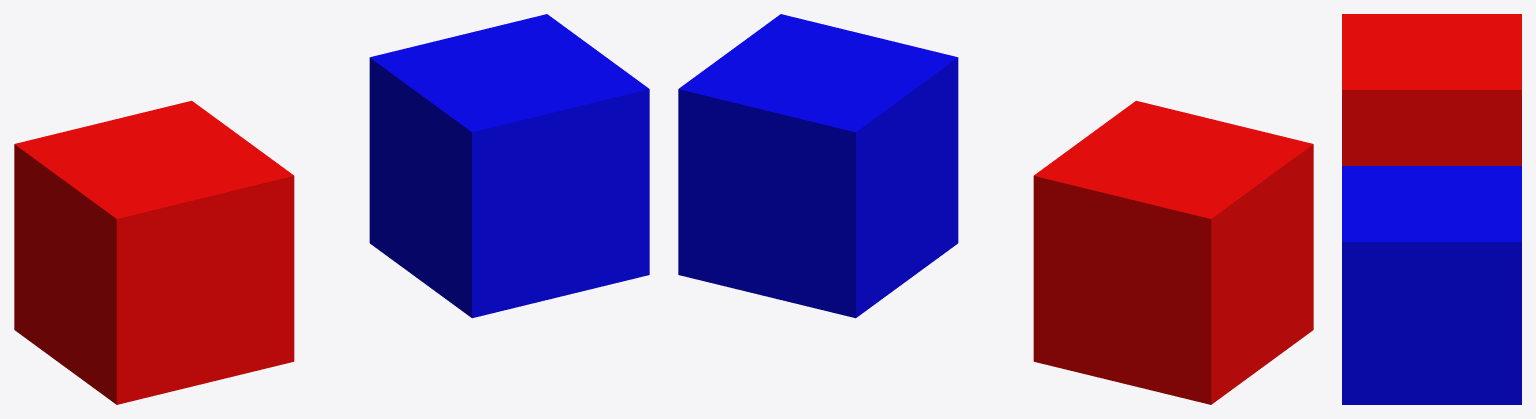
Rendered from simple_test.obj.
3 views of the same model, side by side, from view 1: azimuth 30°, elevation 25°; view 2: azimuth 150°, elevation 25°; view 3: azimuth 270°, elevation 25° (orthographic). The views are drawn at different scales.
Visible parts, largest first — view 1: LeftCube, RightCube; view 2: LeftCube, RightCube; view 3: RightCube, LeftCube.
Part boxes in pixels (x1,y1,x2,y2): LeftCube: [14, 100, 294, 404]; RightCube: [369, 14, 649, 318]; LeftCube: [1033, 100, 1313, 404]; RightCube: [678, 14, 958, 318]; RightCube: [1342, 166, 1521, 404]; LeftCube: [1342, 14, 1521, 165].
Size of the model in its own units: 3 by 1 by 1.
